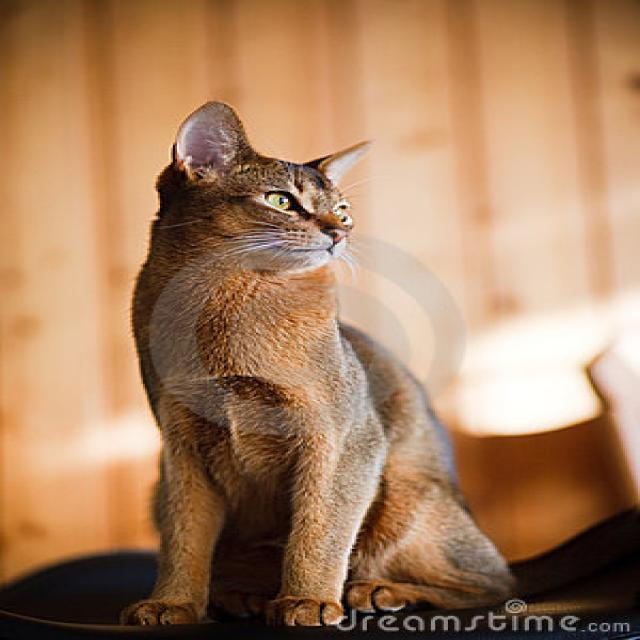Abyssinian: (154, 100, 372, 276)
